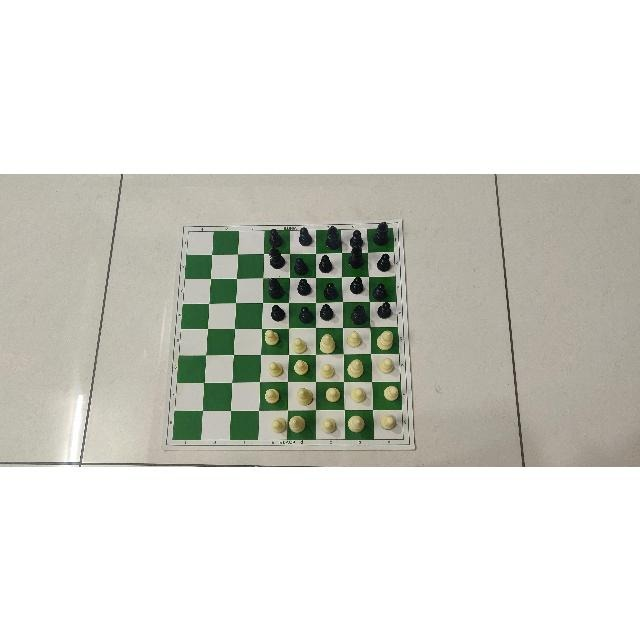black-bishop: (265, 274, 286, 299), (267, 245, 285, 269), (371, 219, 389, 241), (350, 301, 367, 324), (325, 223, 340, 248), (349, 243, 364, 268)
black-pawn: (267, 224, 285, 244), (374, 251, 392, 271), (294, 276, 313, 293), (292, 255, 308, 275), (324, 280, 340, 300), (297, 225, 312, 246), (371, 281, 388, 299), (298, 303, 313, 323), (270, 303, 286, 321), (376, 301, 392, 319), (350, 275, 365, 294), (320, 254, 334, 272), (321, 303, 335, 321), (349, 227, 366, 241)
white-bishop: (295, 384, 317, 407), (375, 327, 395, 351), (288, 411, 305, 438), (347, 414, 366, 438), (317, 330, 335, 353), (350, 357, 363, 377)
white-pawn: (262, 327, 280, 348), (348, 386, 366, 406), (266, 358, 284, 378), (379, 384, 400, 400), (347, 329, 365, 347), (319, 361, 337, 379), (292, 334, 309, 353), (292, 358, 309, 377), (322, 416, 338, 436), (263, 385, 279, 403), (378, 355, 393, 373), (382, 413, 398, 429), (325, 386, 341, 401), (267, 418, 284, 432)
